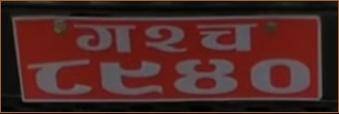0: (246, 58, 317, 97)
2: (143, 24, 191, 55)
4: (172, 58, 243, 97)
8: (23, 56, 95, 98)
9: (97, 58, 168, 96)
cha: (195, 23, 258, 54)
ga: (71, 20, 138, 54)
